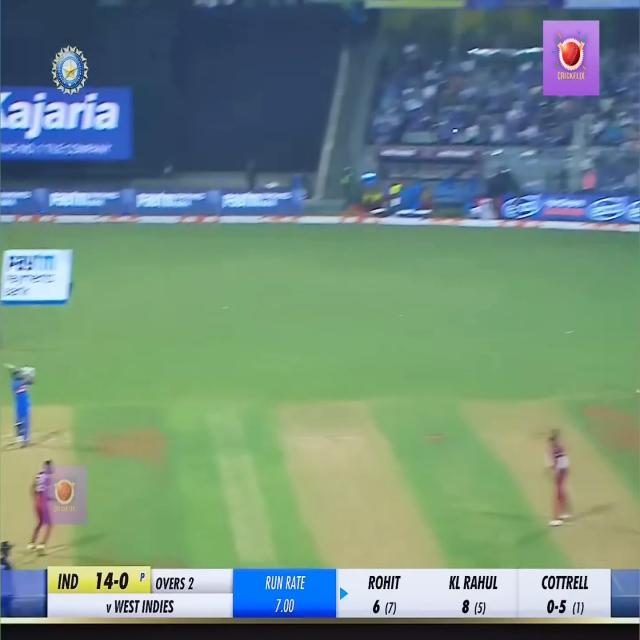fully_visible: (3, 249, 70, 309), (48, 187, 131, 215), (134, 188, 208, 219), (219, 188, 290, 218)
partially_visible: (2, 191, 45, 219)
